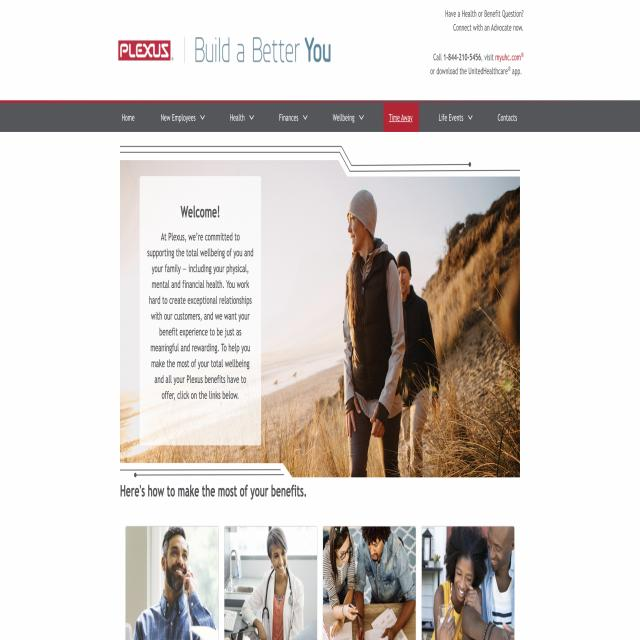Logo: (112, 26, 178, 82)
Navigation: (104, 94, 523, 141)
